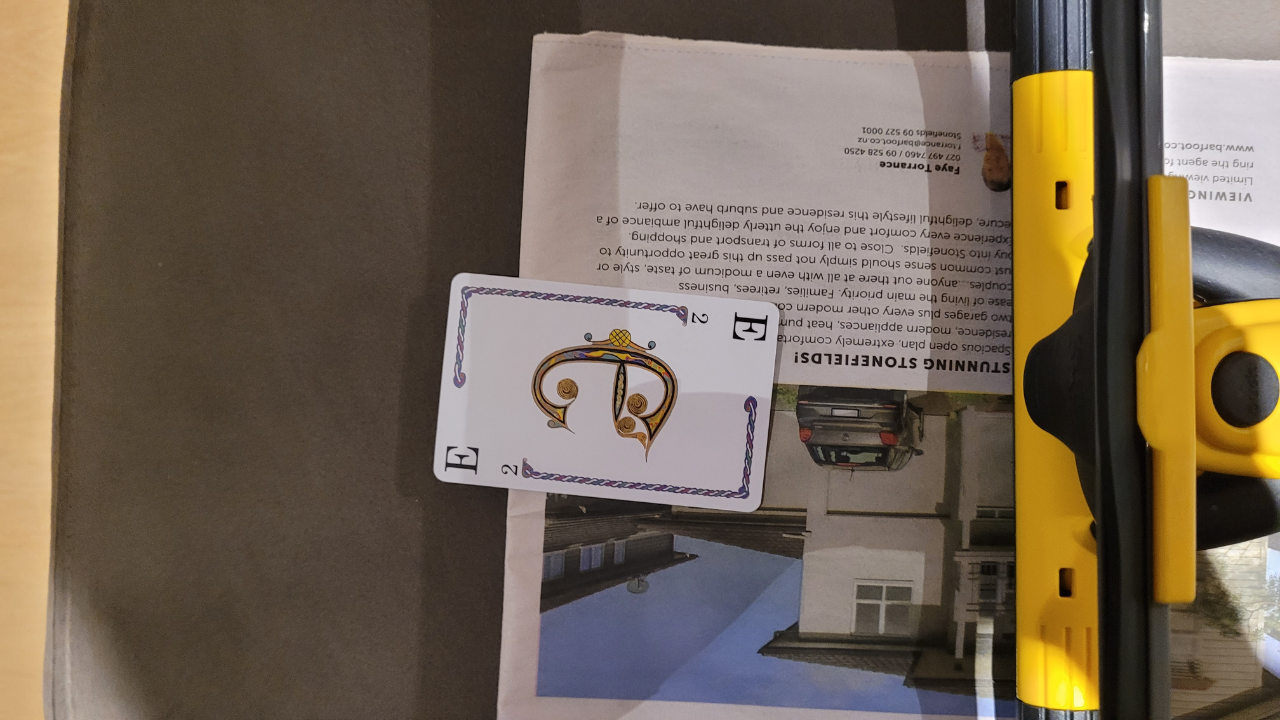quiddler_card: (402, 242, 797, 528)
